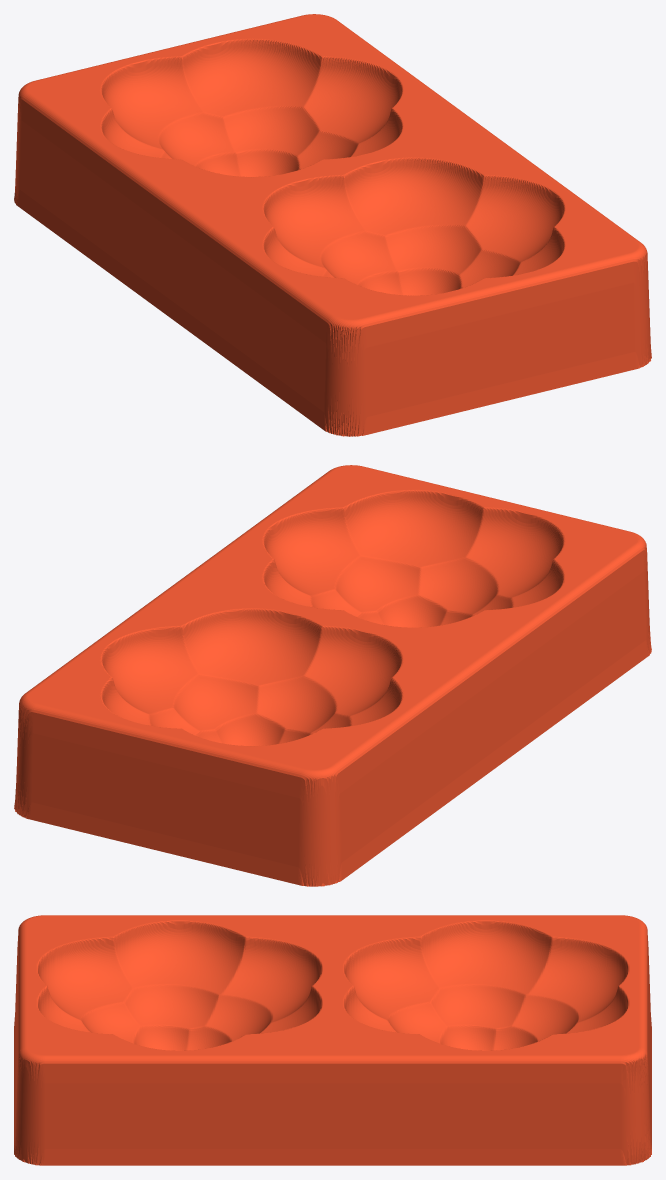
Rendered from mold.glb.
3 renders of one model, top to bottom at view 1: azimuth 30°, elevation 25°; view 2: azimuth 150°, elevation 25°; view 3: azimuth 270°, elevation 25°, orthographic. The views are drawn at different scales.
Visible parts, largest first — view 1: geometry_0; view 2: geometry_0; view 3: geometry_0.
Part boxes in pixels (bbox=[...]): geometry_0: bbox=[14, 14, 651, 436]; geometry_0: bbox=[14, 465, 651, 886]; geometry_0: bbox=[14, 915, 651, 1165].
Bounding box in the file's own units: 0.1032 × 0.0338 × 0.1859.
